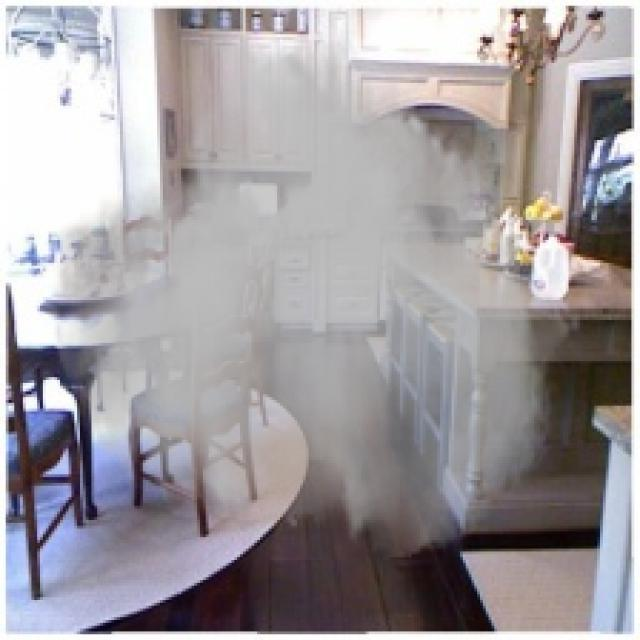Smoke: (48, 11, 583, 563)
